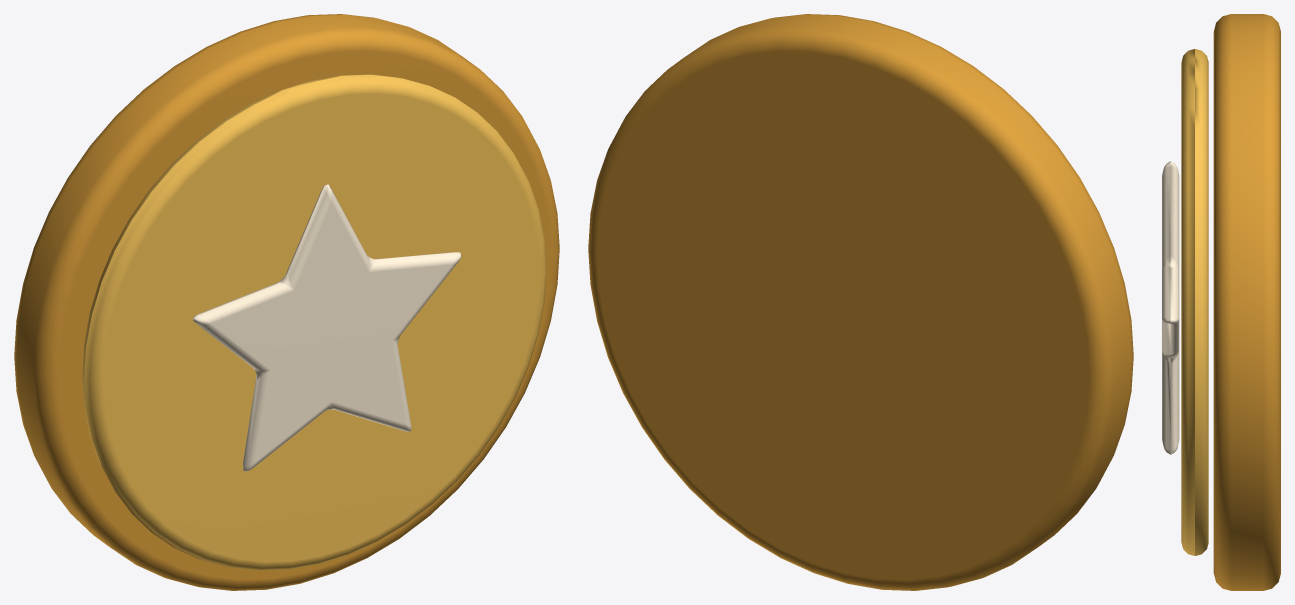
File: CoinIcon.glb
3 renders of one model, left to right at view 1: azimuth 30°, elevation 25°; view 2: azimuth 150°, elevation 25°; view 3: azimuth 270°, elevation 25°, orthographic. The views are drawn at different scales.
Visible parts, largest first — view 1: CoinIcon; view 2: CoinIcon; view 3: CoinIcon.
Boxes of the visible parts, x1,y1,x2,y2 form: CoinIcon: [14, 14, 559, 590]; CoinIcon: [588, 14, 1133, 590]; CoinIcon: [1162, 14, 1280, 590].
Bounding box in the file's own units: 1.16 × 1.16 × 0.239.
